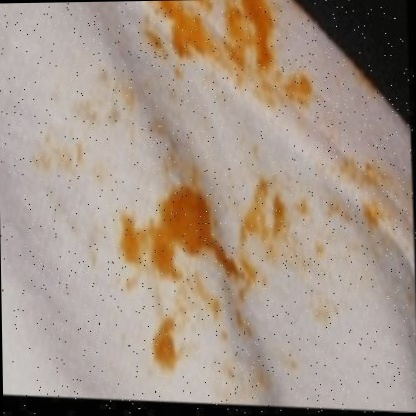kimchi: (295, 154, 393, 230), (151, 192, 240, 275), (145, 105, 200, 193), (243, 175, 296, 252), (215, 341, 285, 396), (218, 59, 303, 104), (296, 227, 331, 319), (177, 279, 228, 336), (163, 0, 209, 59), (112, 212, 156, 269), (140, 319, 179, 372), (242, 0, 275, 57), (37, 130, 86, 166), (93, 76, 136, 115), (218, 0, 237, 58), (231, 308, 252, 344)
